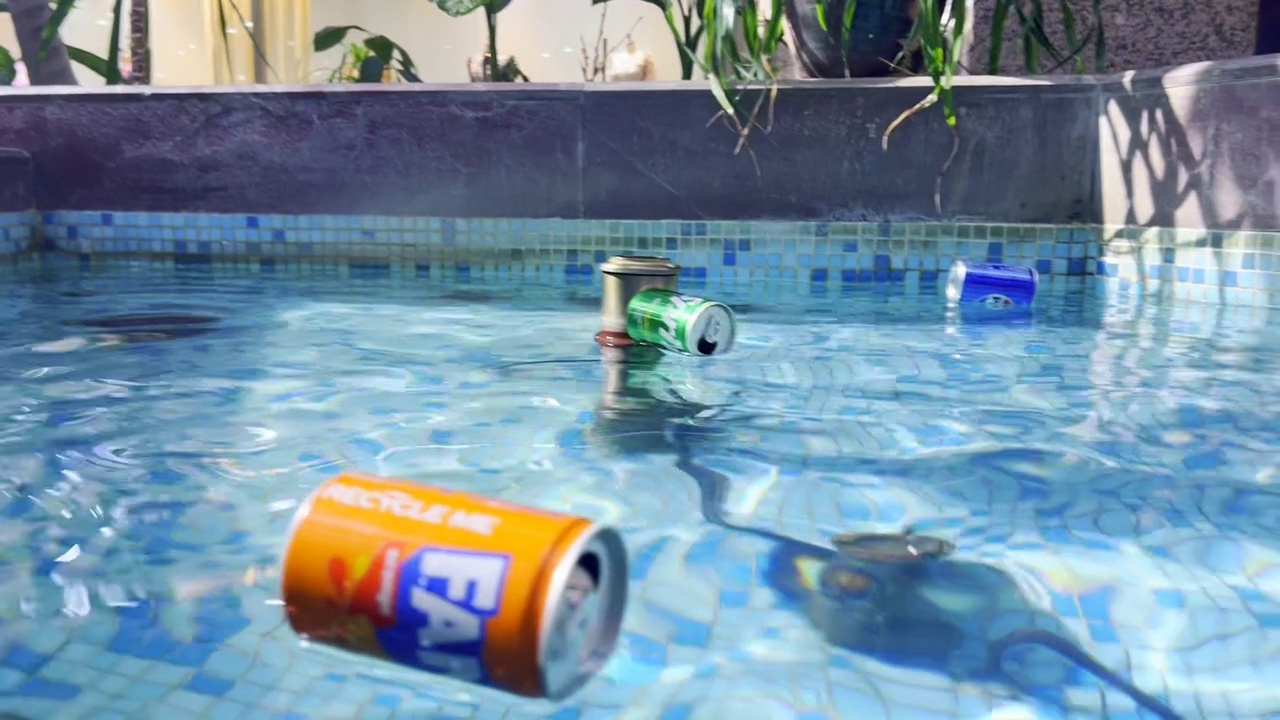debris: (270, 449, 637, 708), (608, 276, 744, 363), (935, 250, 1047, 323)
